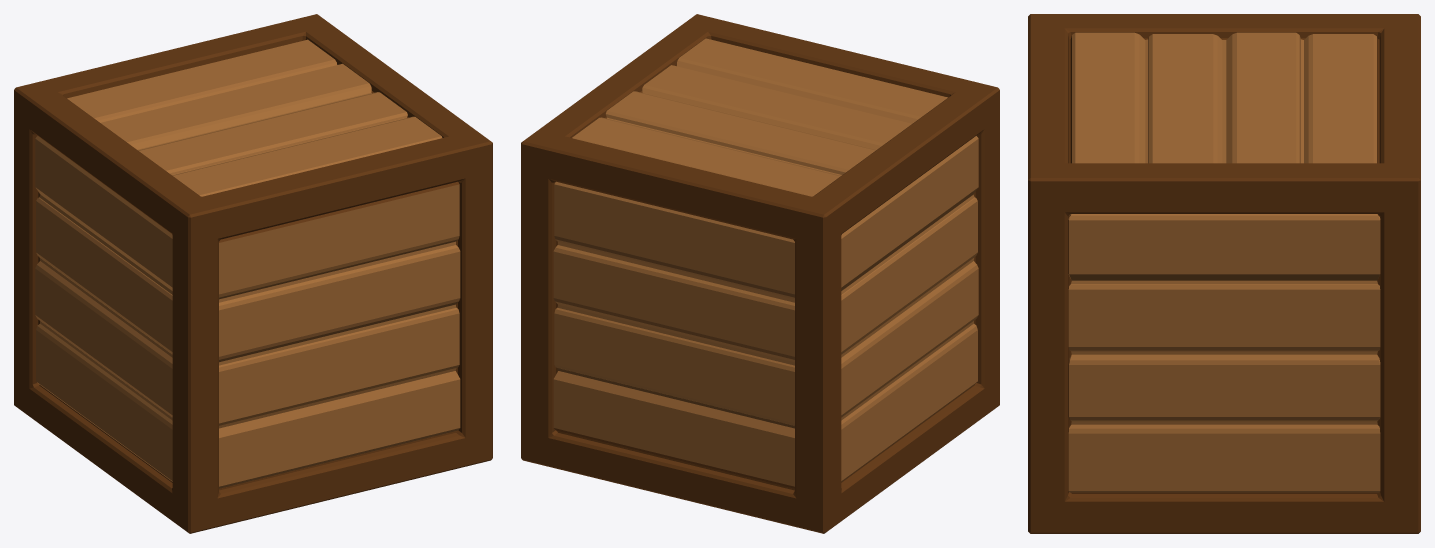
File: CrateExplode-transformed.glb
3 views of the same model, side by side, from view 1: azimuth 30°, elevation 25°; view 2: azimuth 150°, elevation 25°; view 3: azimuth 270°, elevation 25° (orthographic). The views are drawn at different scales.
Parts seen in each view (by area): view 1: Cube.002; view 2: Cube.002; view 3: Cube.002.
Part boxes in pixels (x1,y1,x2,y2): Cube.002: (14,14,492,533); Cube.002: (521,14,999,533); Cube.002: (1028,14,1420,533).
Size of what is drawn, in the model's own units: 2.43 by 2.43 by 2.43.
